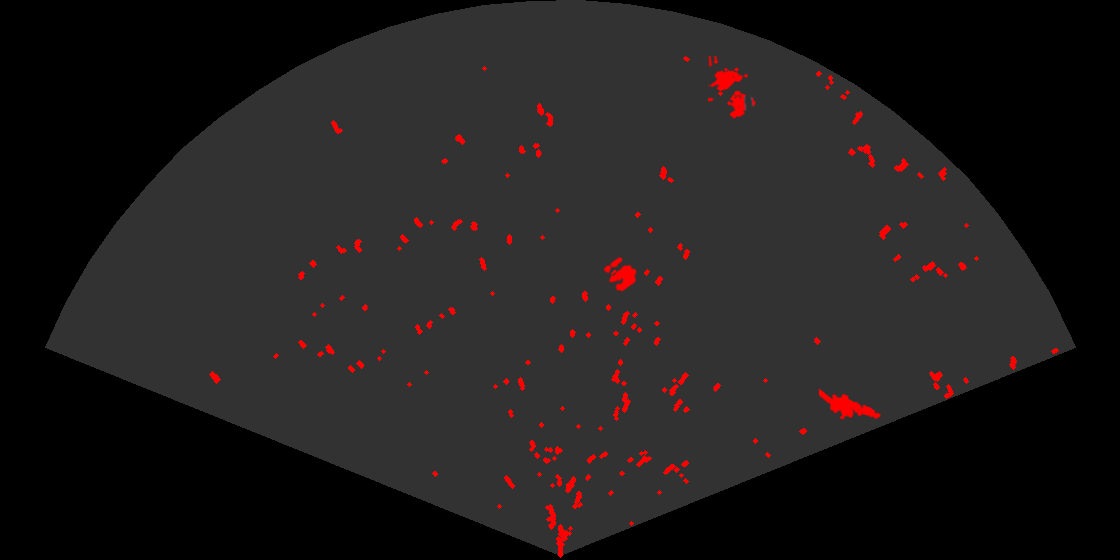ball: (602, 255, 638, 293)
cage: (708, 56, 757, 121)
frogman: (819, 387, 882, 421)
